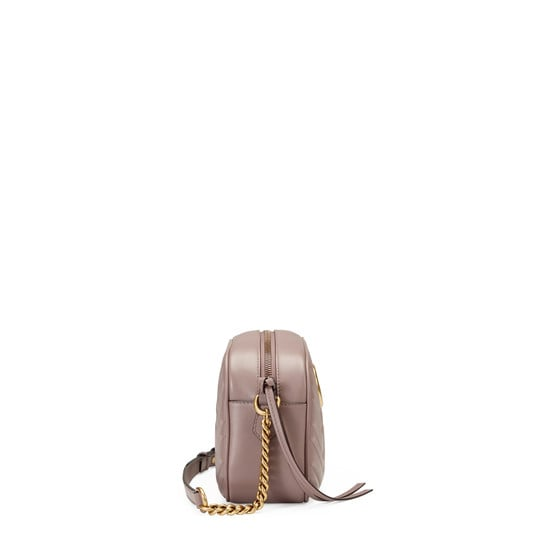Gucci: (176, 296, 356, 532)
